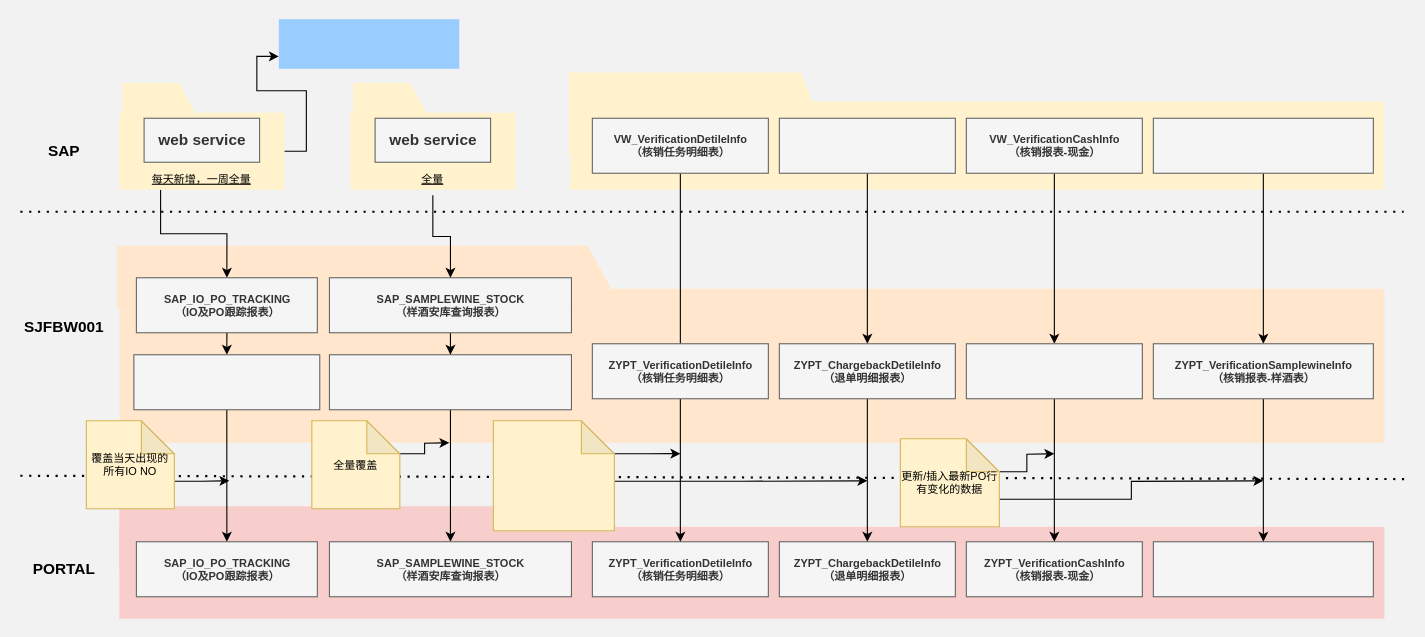
This 1425x637 diagram has some shape labels left out. The shapes that lost their labels are listed below. From the top down, each one's centre as x and y in pixels, then its label:
(x=368, y=43): 1、一周的时间怎么界定？ 2、一周全量的时候之前按天定存的IO NO会不会删除？
(x=866, y=145): VW_ChargebackDetileInfo （退单明细报表）
(x=1262, y=145): VW_VerificationSamplewineInfo （核销报表-样酒）
(x=226, y=382): SAP_IO_PO_TRACKING_ DAY （IO及PO跟踪日定存）
(x=449, y=382): SAP_SAMPLEWINE_STOCK_ DAY （样酒安库查询历史日定存）
(x=1053, y=371): ZYPT_VerificationCashInfo （核销报表-现金表）
(x=553, y=475): 每天全量同步最新更新时间为当天且状态为1和3的最新数据，更新/插入状态2的最新数据
(x=1262, y=569): ZYPT_VerificationSamplewineInfo （核销报表-样酒）
